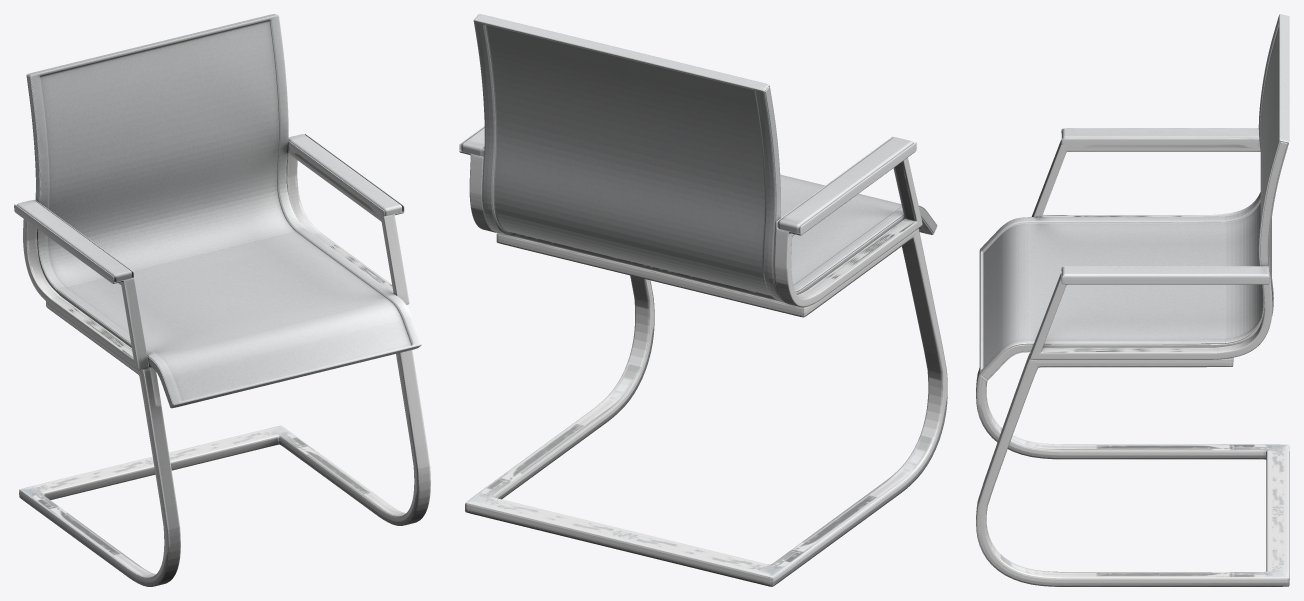
File: baiana-white.DAE
The picture shows the model from 3 angles, left to right: view 1: azimuth 30°, elevation 25°; view 2: azimuth 150°, elevation 25°; view 3: azimuth 270°, elevation 25°; orthographic projection. The views are drawn at different scales.
Visible parts, largest first — view 1: baiana-white; view 2: baiana-white; view 3: baiana-white.
Boxes of the visible parts, box(x1,y1,x2,y2) form: baiana-white: box(14, 14, 430, 586); baiana-white: box(459, 14, 947, 586); baiana-white: box(976, 14, 1289, 586).
Bounding box in the file's own units: 662 × 591 × 922.
